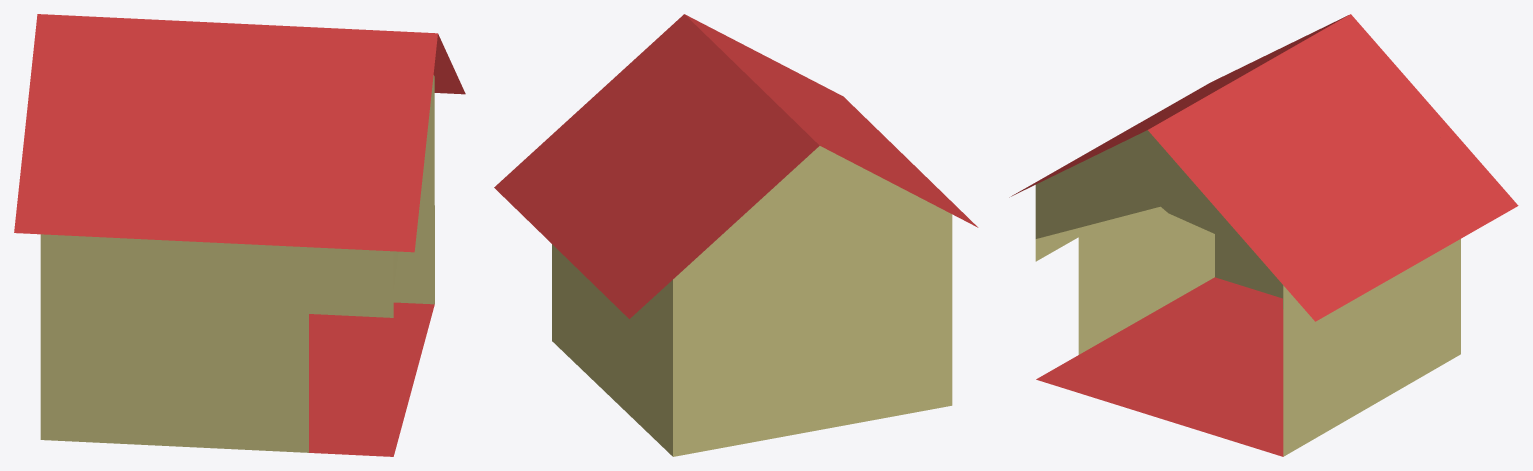
3 views of the same model, side by side, from view 1: azimuth 30°, elevation 25°; view 2: azimuth 150°, elevation 25°; view 3: azimuth 270°, elevation 25° (orthographic). The views are drawn at different scales.
Bounding box in the file's own units: 24.8 × 25.23 × 16.08.
